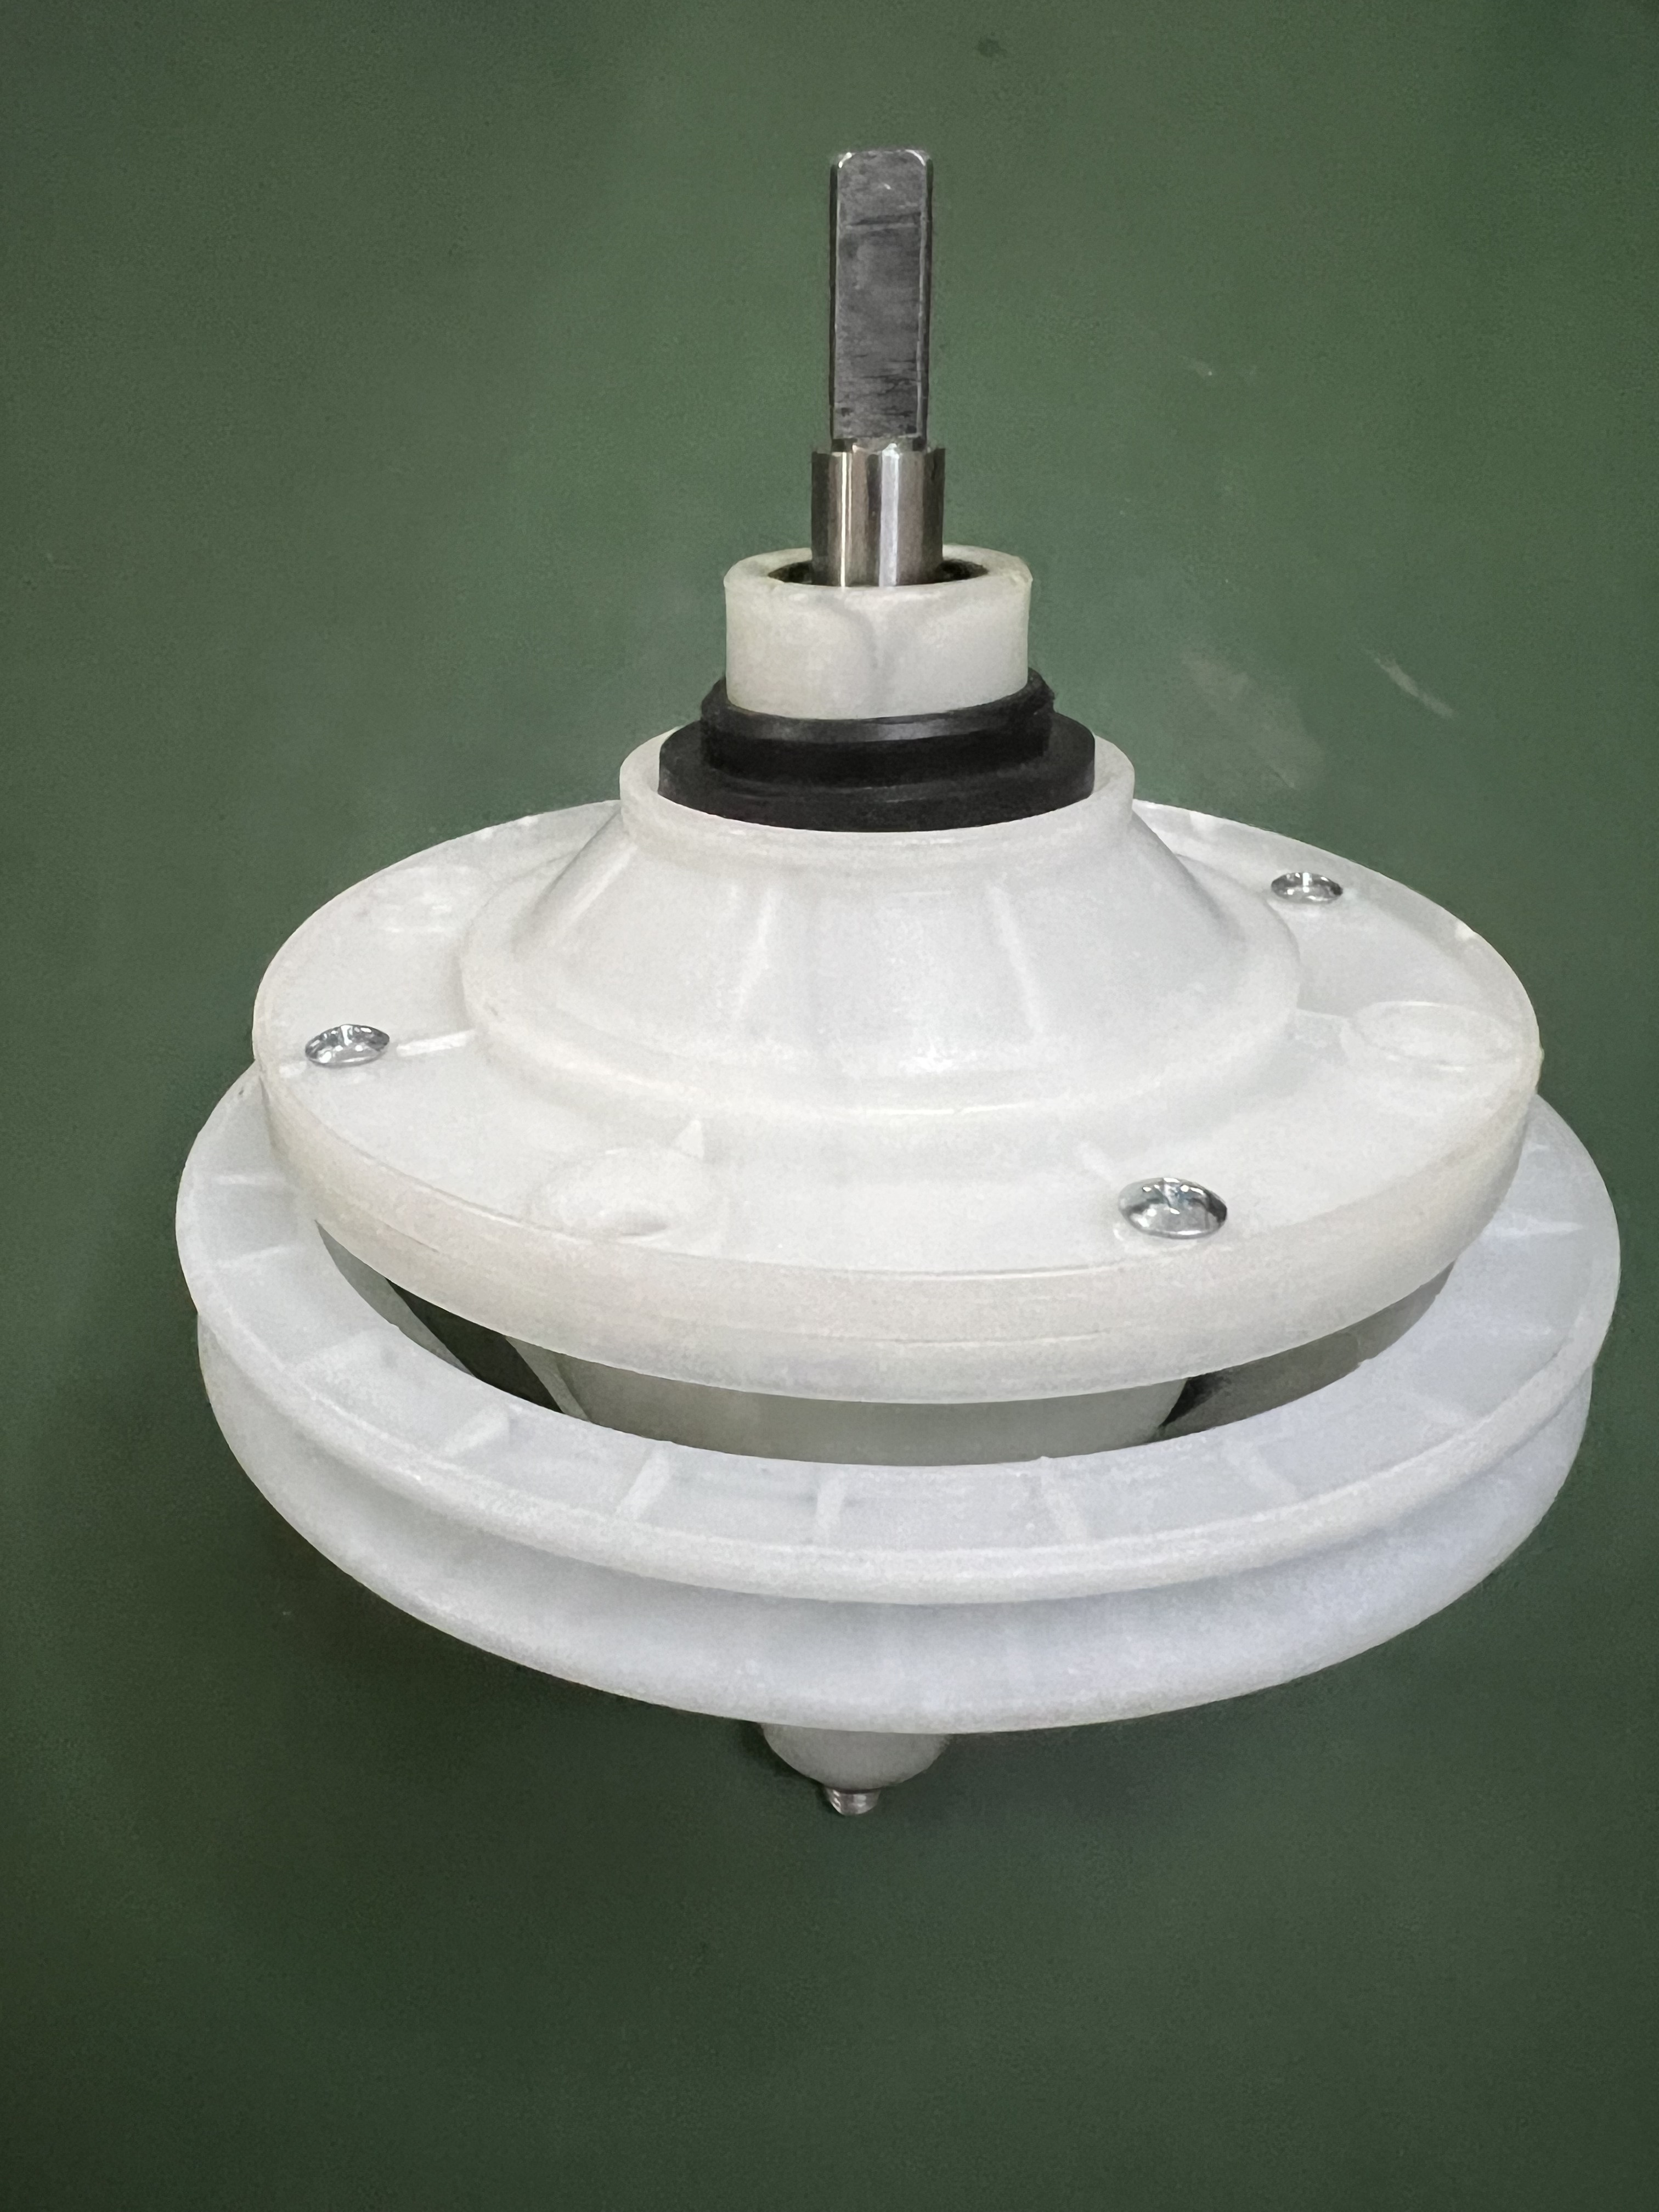gear_box_ovul: (134, 150, 1633, 1853)
